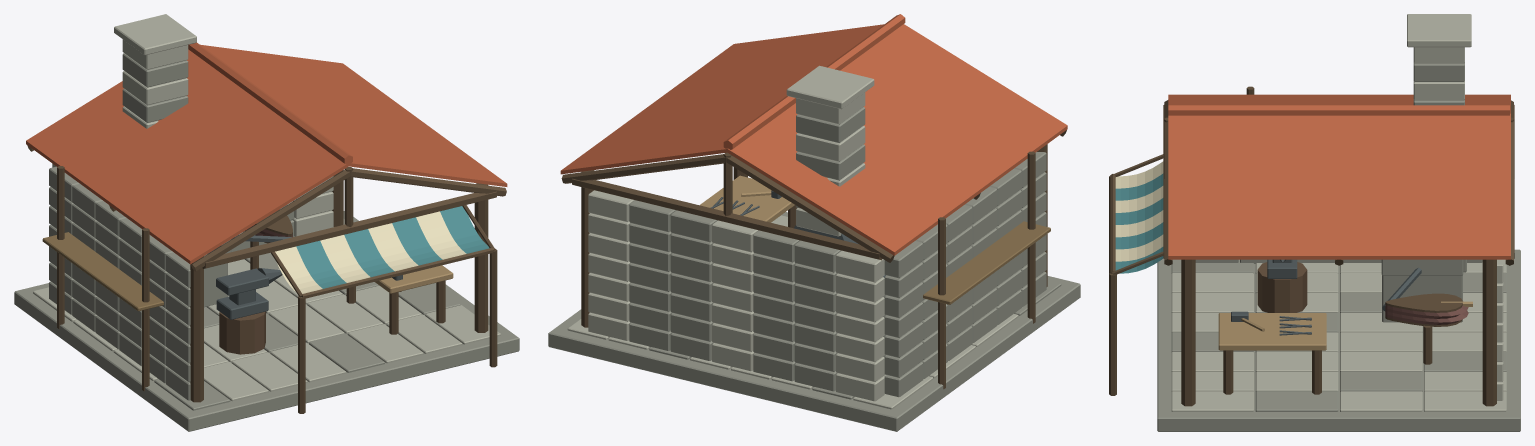
The model's file is blacksmith.glb.
3 renders of one model, left to right at view 1: azimuth 30°, elevation 25°; view 2: azimuth 150°, elevation 25°; view 3: azimuth 270°, elevation 25°, orthographic. The views are drawn at different scales.
Visible parts, largest first — view 1: Foundation_mesh, FloorCourse_mesh, RoofCourse.005_mesh, RoofCourse.003_mesh, AwningFabric_mesh, RoofCourse.004_mesh, RoofTrusses_mesh, RoofCourse.002_mesh, RoofCourse.001_mesh, FloorCourse.001_mesh, Chimney_mesh, RoofCourse_mesh (+15 smaller); view 2: Foundation_mesh, RoofCourse.005_mesh, WallCourse.006_mesh, RoofCourse.003_mesh, RoofCourse.004_mesh, RoofTrusses_mesh, WallCourse.005_mesh, WallCourse.001_mesh, WallCourse_mesh, WallCourse.002_mesh, WallCourse.004_mesh, RoofCourse.002_mesh (+8 smaller); view 3: Foundation_mesh, RoofCourse.005_mesh, RoofCourse.003_mesh, FloorCourse.002_mesh, RoofCourse.004_mesh, RoofCourse.001_mesh, RoofCourse.002_mesh, FloorCourse_mesh, RoofCourse_mesh, FloorCourse.001_mesh, FloorCourse.003_mesh, RoofTrusses_mesh (+11 smaller).
Part boxes in pixels (left/top/right/bottom): Foundation_mesh: left=14, top=211, right=519, bottom=431; FloorCourse_mesh: left=154, top=305, right=500, bottom=410; RoofCourse.005_mesh: left=26, top=60, right=507, bottom=264; RoofCourse.003_mesh: left=76, top=53, right=453, bottom=233; AwningFabric_mesh: left=275, top=206, right=489, bottom=293; RoofCourse.004_mesh: left=54, top=56, right=483, bottom=249; RoofTrusses_mesh: left=27, top=42, right=506, bottom=271; RoofCourse.002_mesh: left=107, top=49, right=431, bottom=215; RoofCourse.001_mesh: left=180, top=46, right=404, bottom=200; FloorCourse.001_mesh: left=113, top=283, right=460, bottom=380; Chimney_mesh: left=114, top=14, right=196, bottom=128; RoofCourse_mesh: left=187, top=44, right=377, bottom=184; Foundation_mesh: left=548, top=212, right=1080, bottom=431; RoofCourse.005_mesh: left=560, top=40, right=1067, bottom=255; WallCourse.006_mesh: left=588, top=152, right=1046, bottom=282; RoofCourse.003_mesh: left=613, top=33, right=1009, bottom=223; RoofCourse.004_mesh: left=585, top=36, right=1037, bottom=239; RoofTrusses_mesh: left=561, top=14, right=1066, bottom=262; WallCourse.005_mesh: left=588, top=172, right=1046, bottom=302; WallCourse.001_mesh: left=588, top=251, right=1046, bottom=381; WallCourse_mesh: left=588, top=271, right=1046, bottom=401; WallCourse.002_mesh: left=588, top=234, right=1046, bottom=362; WallCourse.004_mesh: left=588, top=192, right=1046, bottom=322; RoofCourse.002_mesh: left=640, top=29, right=981, bottom=204; Foundation_mesh: left=1157, top=249, right=1520, bottom=431; RoofCourse.005_mesh: left=1168, top=94, right=1510, bottom=259; RoofCourse.003_mesh: left=1168, top=101, right=1510, bottom=211; FloorCourse.002_mesh: left=1340, top=263, right=1422, bottom=411; RoofCourse.004_mesh: left=1168, top=98, right=1510, bottom=234; RoofCourse.001_mesh: left=1168, top=107, right=1510, bottom=163; RoofCourse.002_mesh: left=1168, top=104, right=1510, bottom=187; FloorCourse_mesh: left=1171, top=259, right=1253, bottom=411; RoofCourse_mesh: left=1168, top=110, right=1510, bottom=139; FloorCourse.001_mesh: left=1255, top=263, right=1338, bottom=411; FloorCourse.003_mesh: left=1424, top=259, right=1506, bottom=411; RoofTrusses_mesh: left=1163, top=100, right=1514, bottom=265.
Size of the model in its own units: 4.65 by 3.59 by 4.64.
